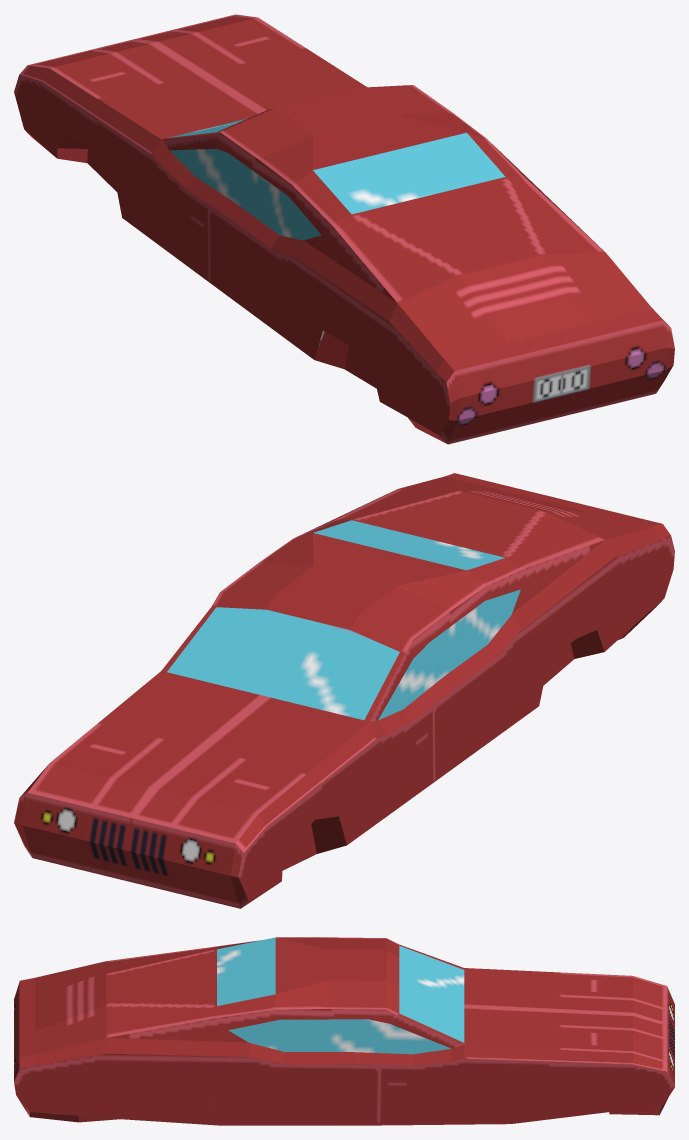
Rendered from sm_car_racer1.fbx.
3 views of the same model, one above another, from view 1: azimuth 30°, elevation 25°; view 2: azimuth 150°, elevation 25°; view 3: azimuth 270°, elevation 25° (orthographic). The views are drawn at different scales.
Visible parts, largest first — view 1: Cube.001; view 2: Cube.001; view 3: Cube.001.
Part boxes in pixels (left/top/right/bottom): Cube.001: left=14, top=14, right=674, bottom=444; Cube.001: left=14, top=473, right=674, bottom=908; Cube.001: left=14, top=937, right=674, bottom=1125.
Bounding box in the file's own units: 120 × 87.24 × 402.
Materials: 1 (1 with a texture image).
